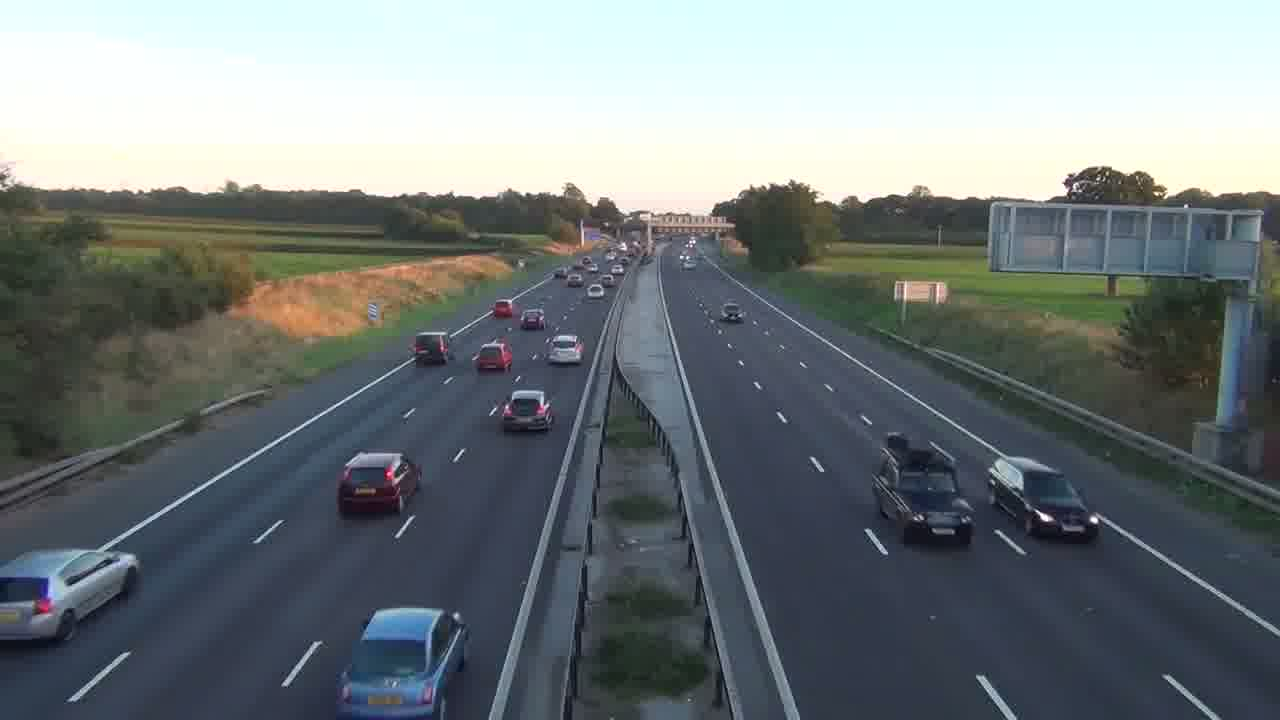car: (335, 606, 470, 719), (0, 547, 141, 645), (986, 454, 1102, 541), (336, 450, 422, 515), (502, 388, 557, 433), (472, 340, 513, 373), (546, 334, 583, 365), (518, 308, 545, 331)
truck: (871, 432, 976, 544)
